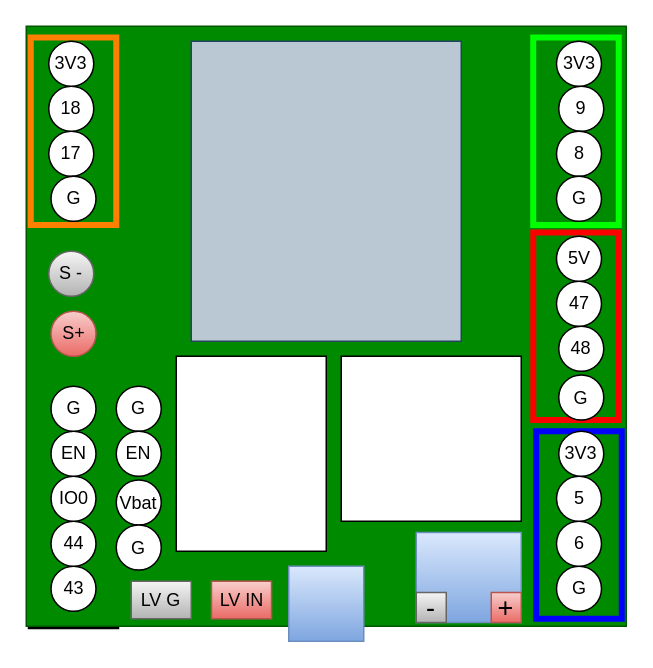
The diagram is 653 pixels wide and 668 high, and some of its shapes have lost their labels. Here are the shapes that lost their labels. From the top down, the box of each, then its label:
(190, 40, 461, 341): ESP32-S3-WROOM-1U (s externou anténou)
(175, 355, 326, 551): BQ25570, MT3608(L) Nabíjací obvod pre LiFePO4, ochranný obvod
(340, 355, 521, 521): Tranzistory pre 5V a 3V3 vetvu, napätie batérie, pre ADC na čítanie Vbat
(415, 531, 521, 622): Bat konektor
(287, 565, 364, 641): USB-C
